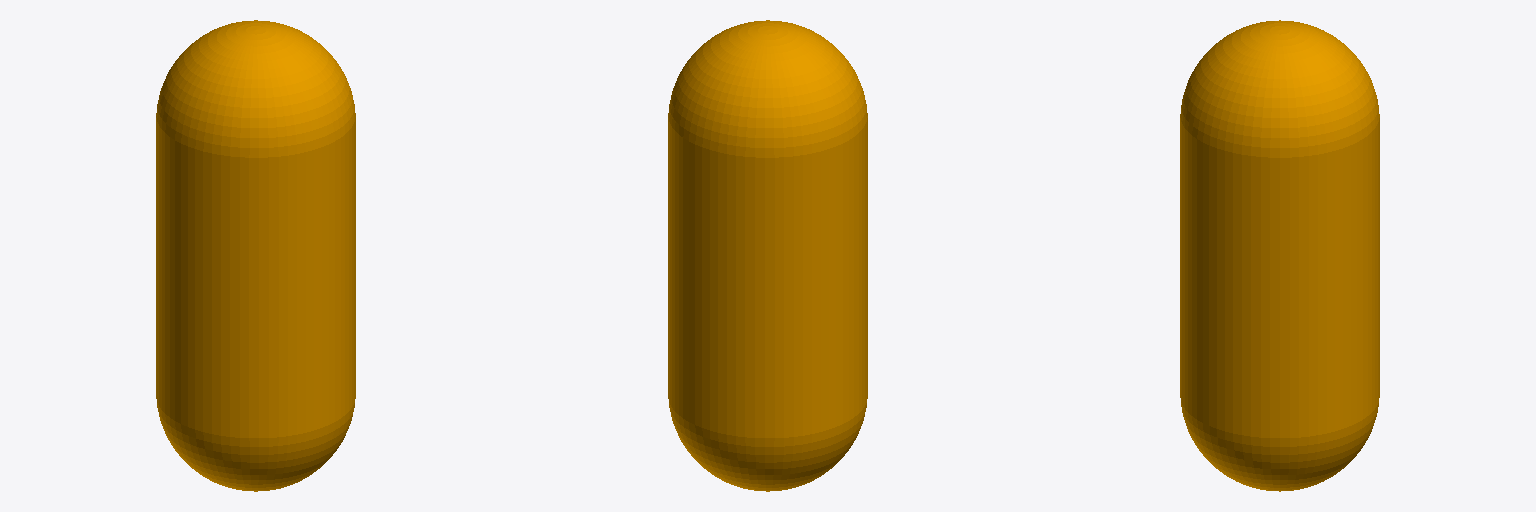
URDF robot description (rope_dummy):
<?xml version="1.0"?>
<robot name="rope_dummy">
  <link name="capsule_link">
    <visual>
      <geometry>
        <mesh filename="segment_capsule.stl"/>
      </geometry>
    </visual>
    <collision>
      <geometry>
        <mesh filename="segment_capsule.stl"/>
      </geometry>
    </collision>
    <inertial>
      <mass value="0.001"/>
      <origin xyz="0 0 0"/>
      <inertia ixx="0.0001" ixy="0" ixz="0"
               iyy="0.0001" iyz="0" izz="0.0001"/>
    </inertial>
  </link>
</robot>

--- What the picture shows (computed from the rendered views, not written in the file) ---
Views: 3 orthographic renders of the robot side by side, from view 1: azimuth 30°, elevation 25°; view 2: azimuth 150°, elevation 25°; view 3: azimuth 270°, elevation 25°.
Model rope_dummy with 1 links and 0 joints (none), rooted at capsule_link, posed all joints at 0.
Visible links, largest first — view 1: capsule_link; view 2: capsule_link; view 3: capsule_link.
Link boxes in pixels (x1,y1,x2,y2): capsule_link: (156, 20, 355, 491); capsule_link: (668, 20, 867, 491); capsule_link: (1180, 20, 1379, 491).
Size in the robot's own frame: 0.0399 by 0.0399 by 0.1 metres.
Meshes: 1 distinct files referenced, 1 mesh visuals loaded (1 binary STL).